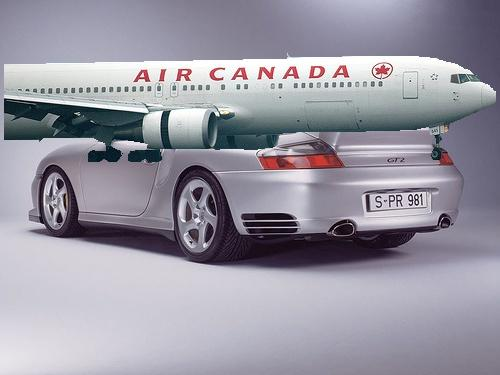tampered: (5, 54, 496, 162)
